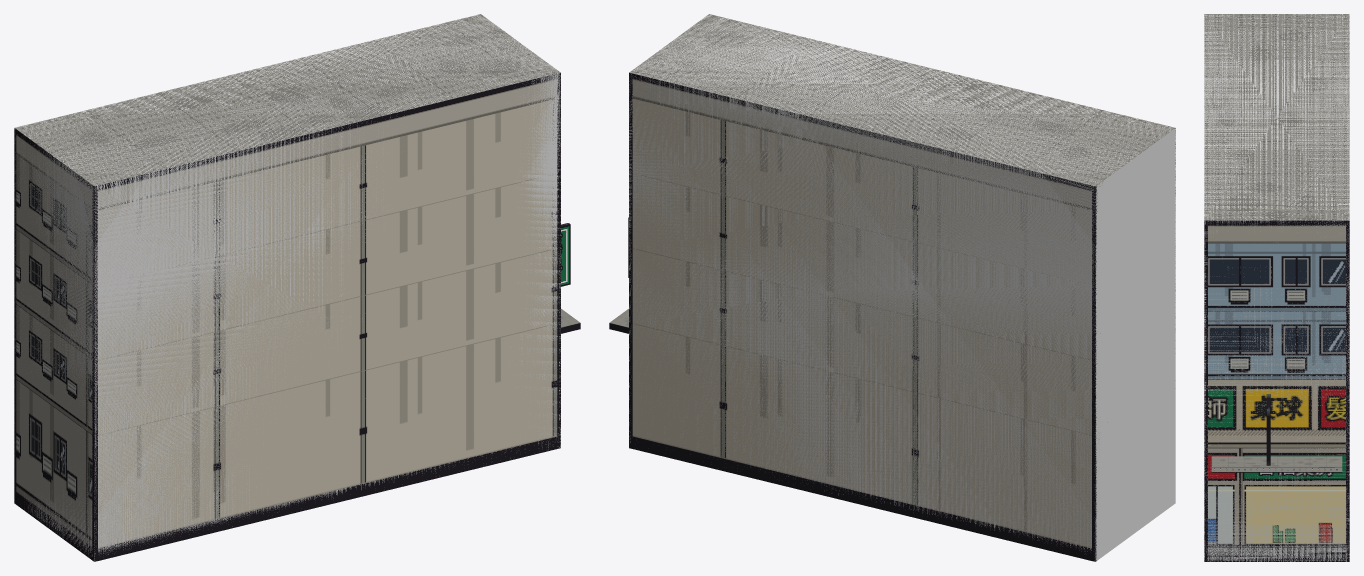
3 views of the same model, side by side, from view 1: azimuth 30°, elevation 25°; view 2: azimuth 150°, elevation 25°; view 3: azimuth 270°, elevation 25° (orthographic). The views are drawn at different scales.
Parts seen in each view (by area): view 1: 19D-W21, COL_19D-W21_0; view 2: 19D-W21, COL_19D-W21_0; view 3: 19D-W21, COL_19D-W21_0.
Part boxes in pixels (left/top/right/bottom): 19D-W21: left=14, top=14, right=580, bottom=561; COL_19D-W21_0: left=14, top=15, right=560, bottom=561; 19D-W21: left=609, top=14, right=1175, bottom=561; COL_19D-W21_0: left=629, top=14, right=1175, bottom=561; 19D-W21: left=1204, top=14, right=1349, bottom=561; COL_19D-W21_0: left=1204, top=14, right=1349, bottom=561.
Size of the model in its own units: 21.35 by 15 by 5.8.
Materials: 1 (1 with a texture image).
